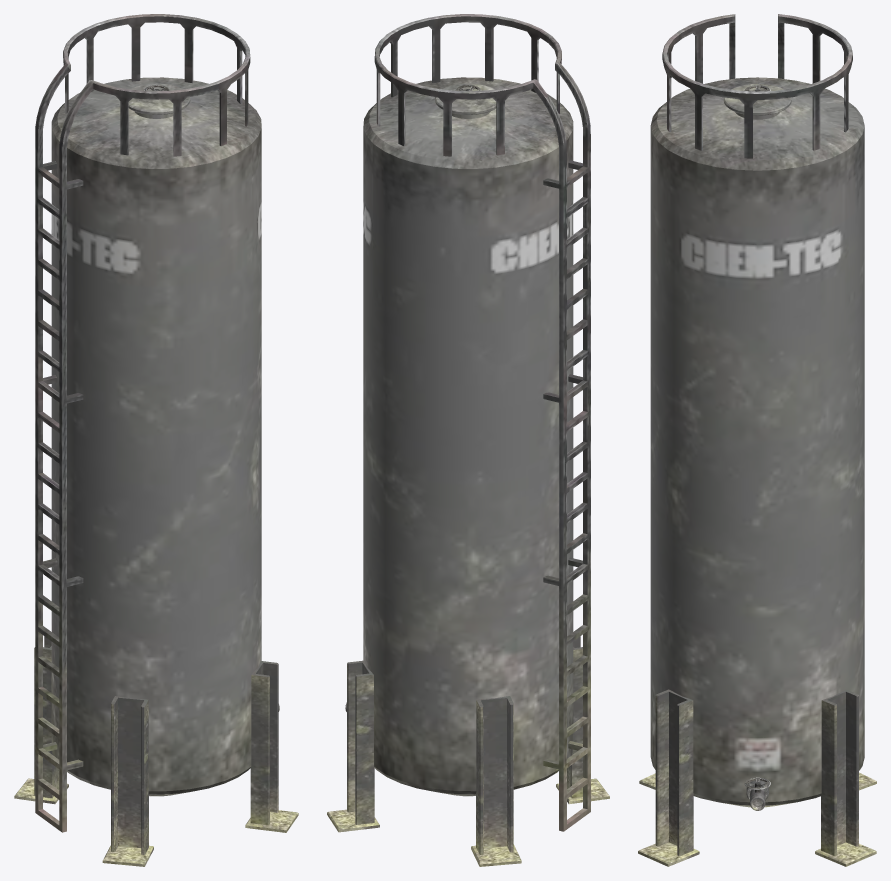
Rendered from storage_tank.glb.
The picture shows the model from 3 angles, left to right: view 1: azimuth 30°, elevation 25°; view 2: azimuth 150°, elevation 25°; view 3: azimuth 270°, elevation 25°; orthographic projection.
Parts seen in each view (by area): view 1: Object_6, Object_2, Object_3; view 2: Object_6, Object_2, Object_3; view 3: Object_6, Object_3, Object_2.
Part boxes in pixels (x1,y1,x2,y2): Object_6: (51,77,261,796); Object_2: (35,14,250,832); Object_3: (14,636,298,866); Object_6: (363,77,573,796); Object_2: (374,14,590,831); Object_3: (327,636,609,866); Object_6: (650,77,864,807); Object_3: (638,689,876,866); Object_2: (662,14,852,158).
Bounding box in the file's own units: 0.3163 × 1 × 0.2826.
Materials: 5 (5 with a texture image).
